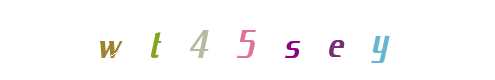4: (207, 0, 287, 80)
5: (213, 0, 293, 80)
E: (275, 0, 355, 80)
S: (216, 0, 296, 80)
T: (148, 0, 228, 80)
W: (87, 0, 167, 80)
Y: (340, 0, 420, 80)
